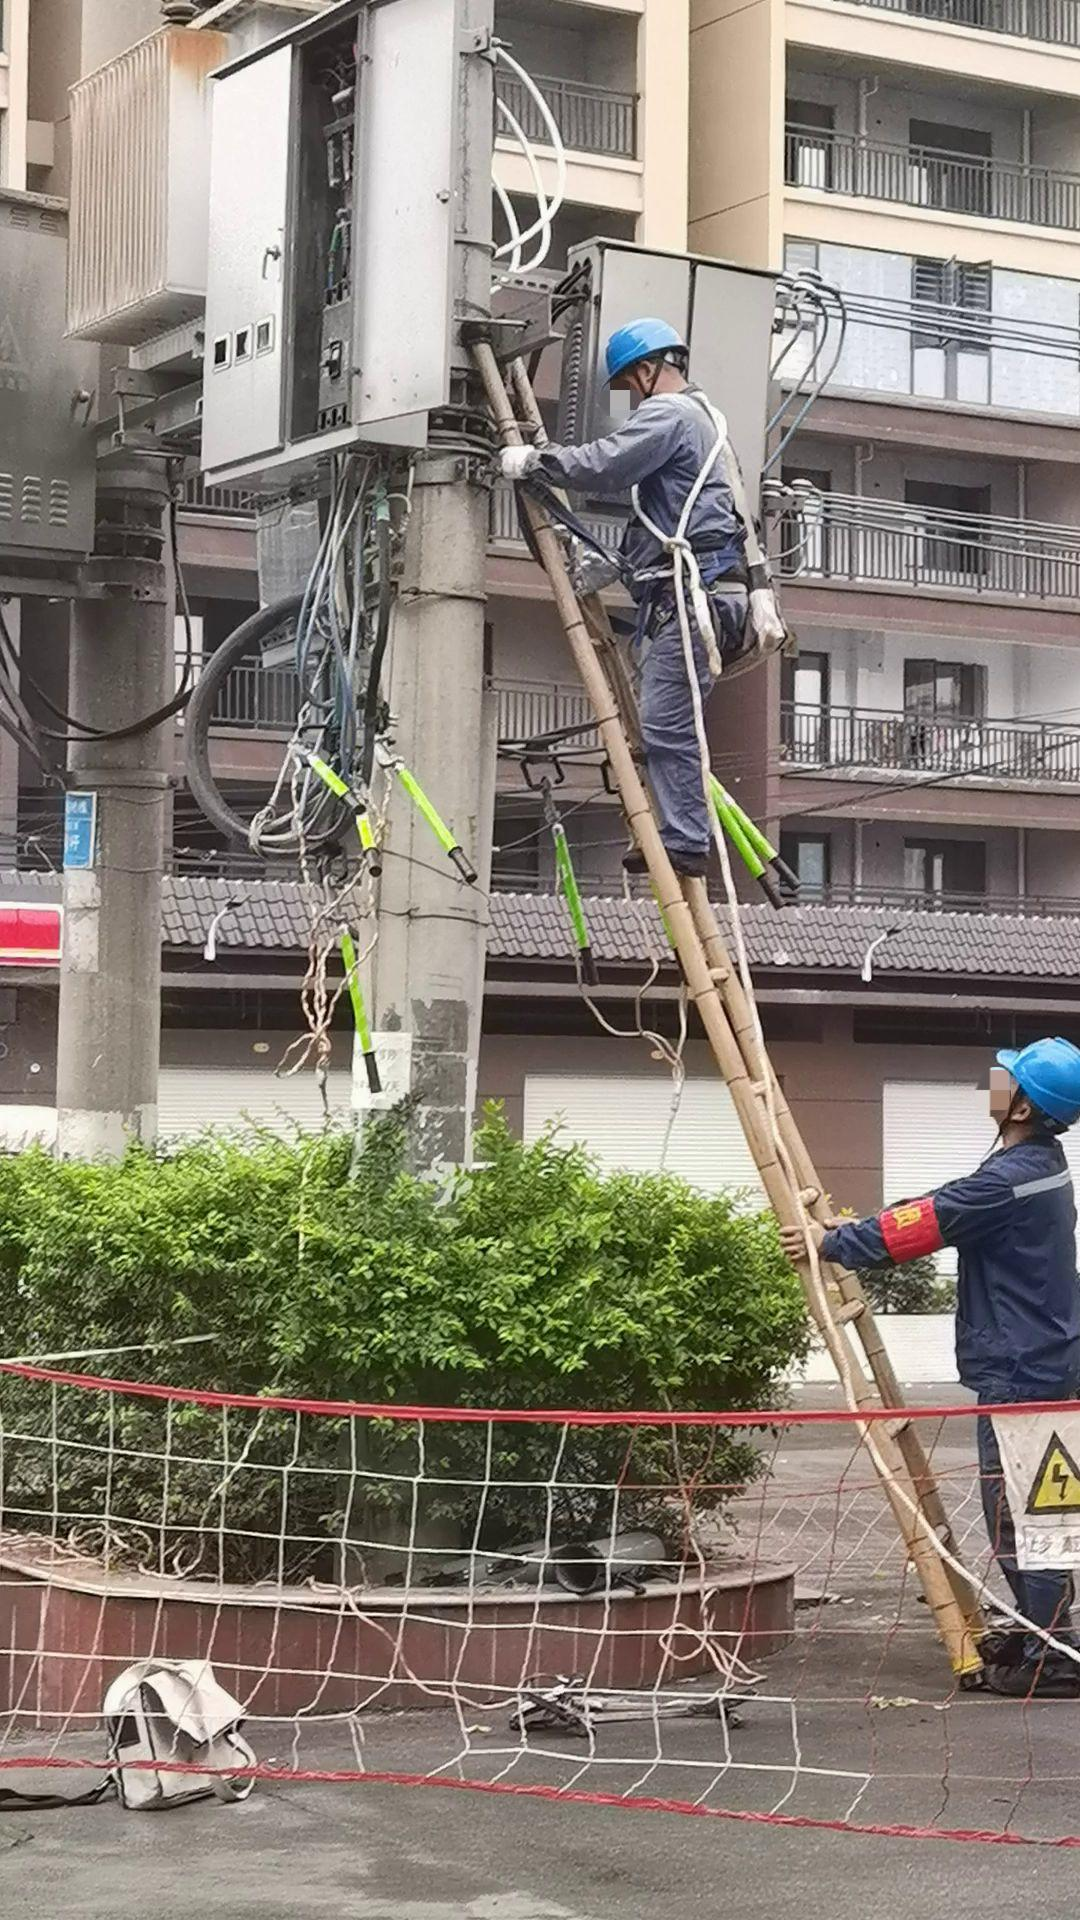halt: (989, 1039, 1080, 1139), (604, 323, 694, 407)
inear: (622, 357, 663, 401)
